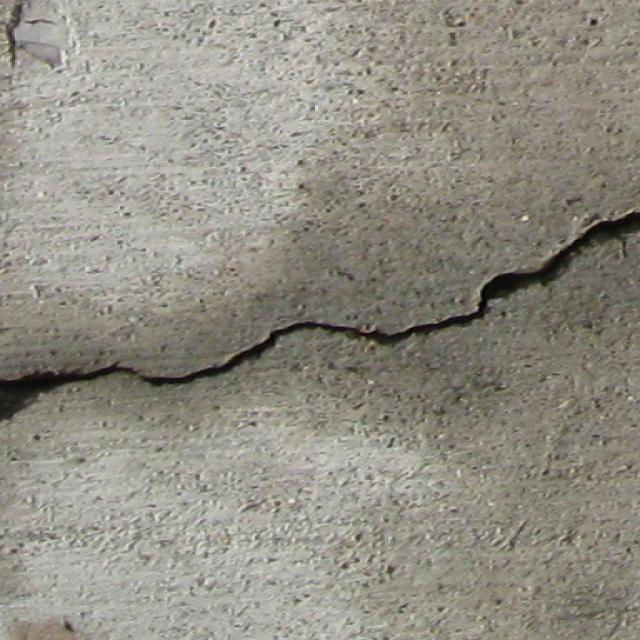crack: (3, 205, 638, 426)
